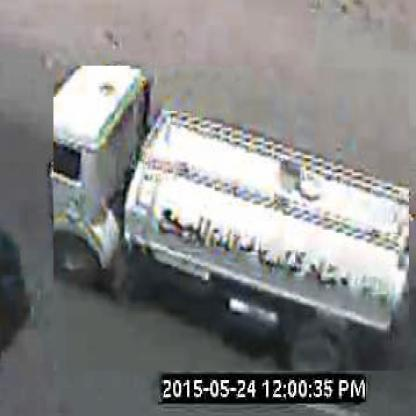truck: (55, 67, 411, 373)
